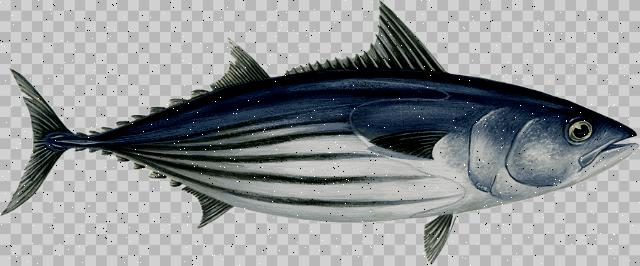Mulut: (594, 107, 640, 177)
Sirip Anal: (178, 181, 238, 239)
Sirip Dada: (363, 116, 449, 171)
Sirip Ekor: (0, 53, 66, 226)
Sirip Perut: (416, 204, 464, 266)
Sirip Punggung: (207, 2, 458, 88)
